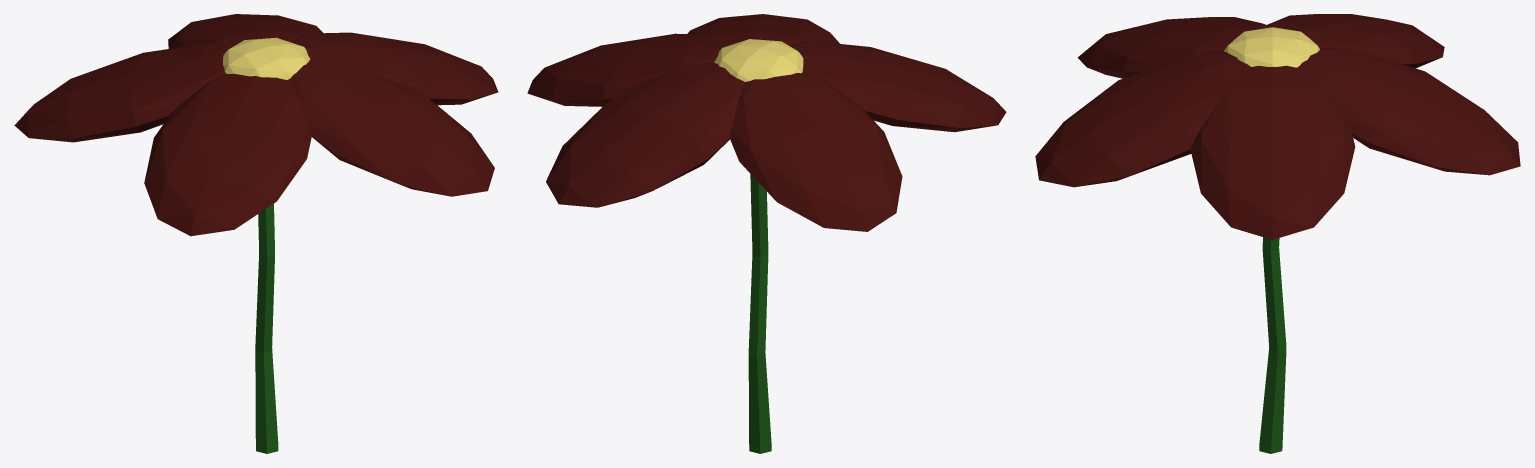
File: cicek_02.FBX
3 views of the same model, side by side, from view 1: azimuth 30°, elevation 25°; view 2: azimuth 150°, elevation 25°; view 3: azimuth 270°, elevation 25° (orthographic). The views are drawn at different scales.
Visible parts, largest first — view 1: GeoSphere005, GeoSphere006, GeoSphere004, GeoSphere002, Cylinder001, GeoSphere003, GeoSphere001; view 2: GeoSphere004, GeoSphere003, GeoSphere005, GeoSphere002, Cylinder001, GeoSphere006, GeoSphere001; view 3: GeoSphere002, GeoSphere006, GeoSphere003, GeoSphere005, GeoSphere004, Cylinder001, GeoSphere001.
Part boxes in pixels (bbox=[...]): GeoSphere005: bbox=[144, 74, 311, 236]; GeoSphere006: bbox=[287, 59, 494, 196]; GeoSphere004: bbox=[14, 43, 231, 142]; GeoSphere002: bbox=[291, 32, 498, 105]; Cylinder001: bbox=[255, 203, 278, 453]; GeoSphere003: bbox=[168, 14, 323, 48]; GeoSphere001: bbox=[223, 37, 310, 79]; GeoSphere004: bbox=[730, 72, 902, 231]; GeoSphere003: bbox=[546, 62, 744, 207]; GeoSphere005: bbox=[789, 40, 1006, 132]; GeoSphere002: bbox=[527, 33, 733, 106]; Cylinder001: bbox=[748, 174, 771, 453]; GeoSphere006: bbox=[687, 14, 839, 45]; GeoSphere001: bbox=[714, 39, 803, 81]; GeoSphere002: bbox=[1190, 65, 1355, 239]; GeoSphere006: bbox=[1035, 50, 1250, 187]; GeoSphere003: bbox=[1297, 47, 1520, 175]; GeoSphere005: bbox=[1077, 17, 1267, 78]; GeoSphere004: bbox=[1267, 14, 1444, 68]; Cylinder001: bbox=[1259, 237, 1286, 453]; GeoSphere001: bbox=[1224, 27, 1319, 67].
Size of the model in its own units: 44.85 by 41.47 by 44.32.
